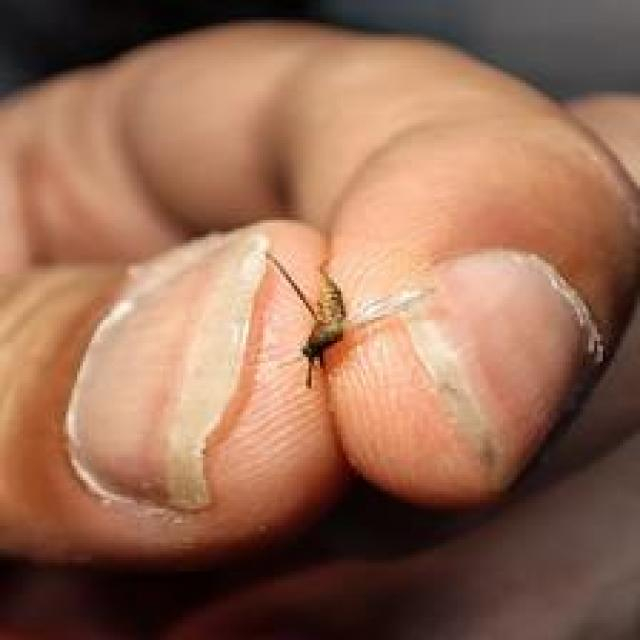Culex: (263, 250, 434, 390)
